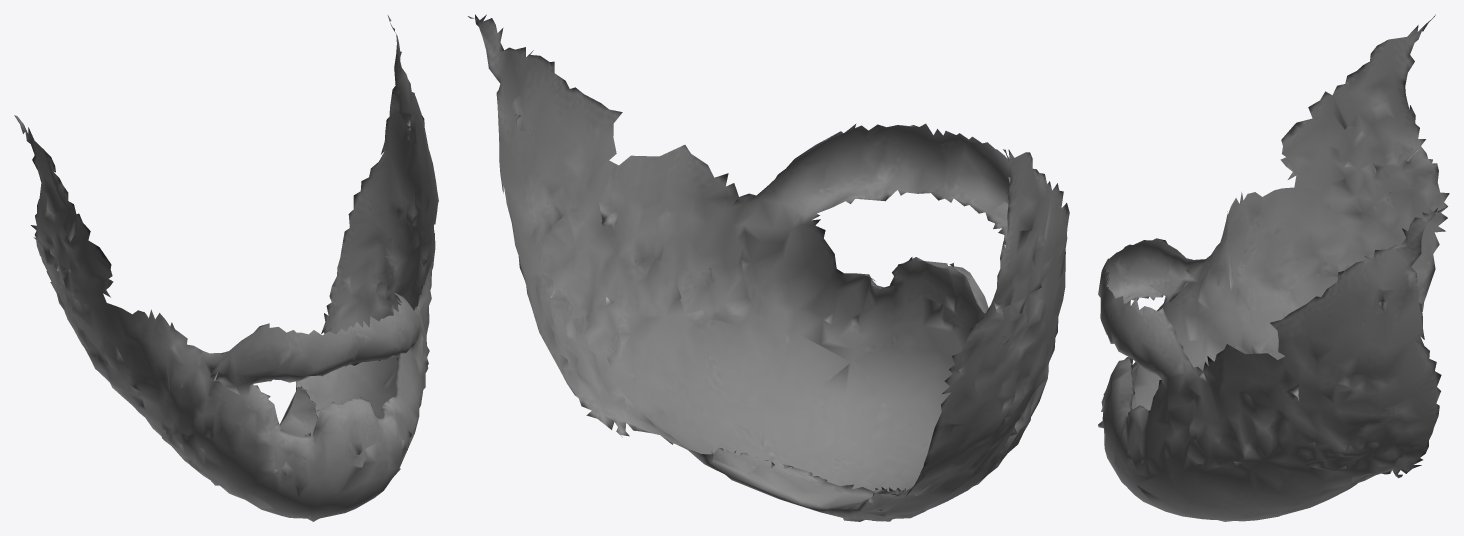
The model's file is beard_short.glb.
3 views of the same model, side by side, from view 1: azimuth 30°, elevation 25°; view 2: azimuth 150°, elevation 25°; view 3: azimuth 270°, elevation 25° (orthographic). The views are drawn at different scales.
Visible parts, largest first — view 1: Hair; view 2: Hair; view 3: Hair.
Boxes of the visible parts, x1,y1,x2,y2 form: Hair: (14,15,438,521); Hair: (468,14,1069,521); Hair: (1098,14,1449,521).
Bounding box in the file's own units: 0.7035 × 0.6597 × 0.5216.
Materials: 1 (1 with a texture image).
